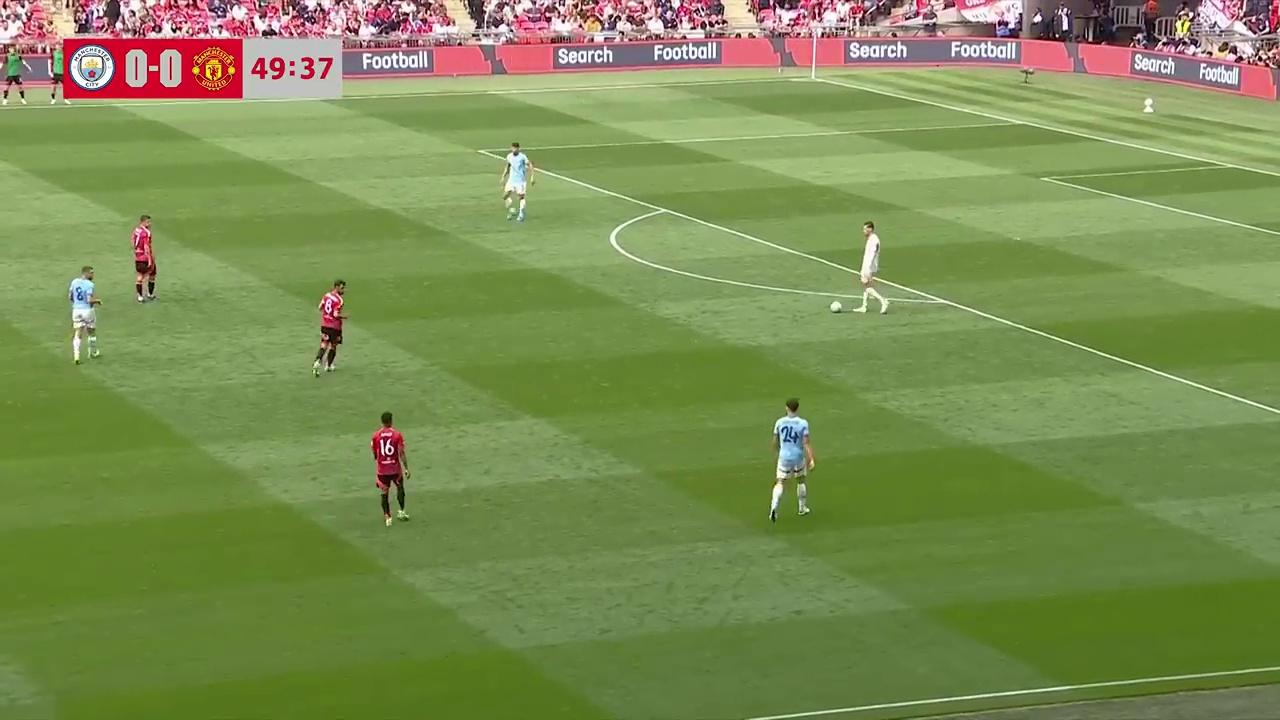ball: (829, 296, 843, 314)
player: (768, 399, 814, 522), (370, 412, 410, 527), (68, 266, 103, 363), (496, 137, 532, 222), (314, 281, 346, 376), (857, 220, 888, 314), (130, 215, 158, 304)
